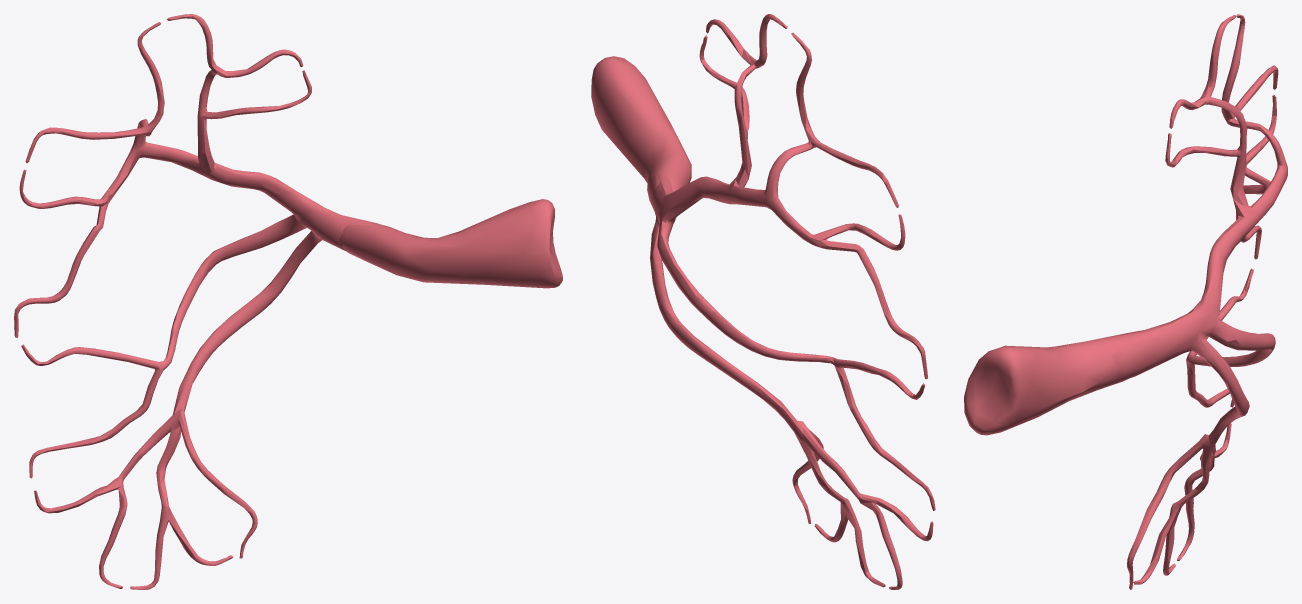
Rendered from fma14335_cx8.glb.
3 views of the same model, side by side, from view 1: azimuth 30°, elevation 25°; view 2: azimuth 150°, elevation 25°; view 3: azimuth 270°, elevation 25° (orthographic). The views are drawn at different scales.
Parts seen in each view (by area): view 1: FMA14335_CX8; view 2: FMA14335_CX8; view 3: FMA14335_CX8.
Boxes of the visible parts, x1,y1,x2,y2 form: FMA14335_CX8: (14,14,562,589); FMA14335_CX8: (591,14,935,589); FMA14335_CX8: (964,14,1287,589).
Bounding box in the file's own units: 0.0643 × 0.0774 × 0.0384.
